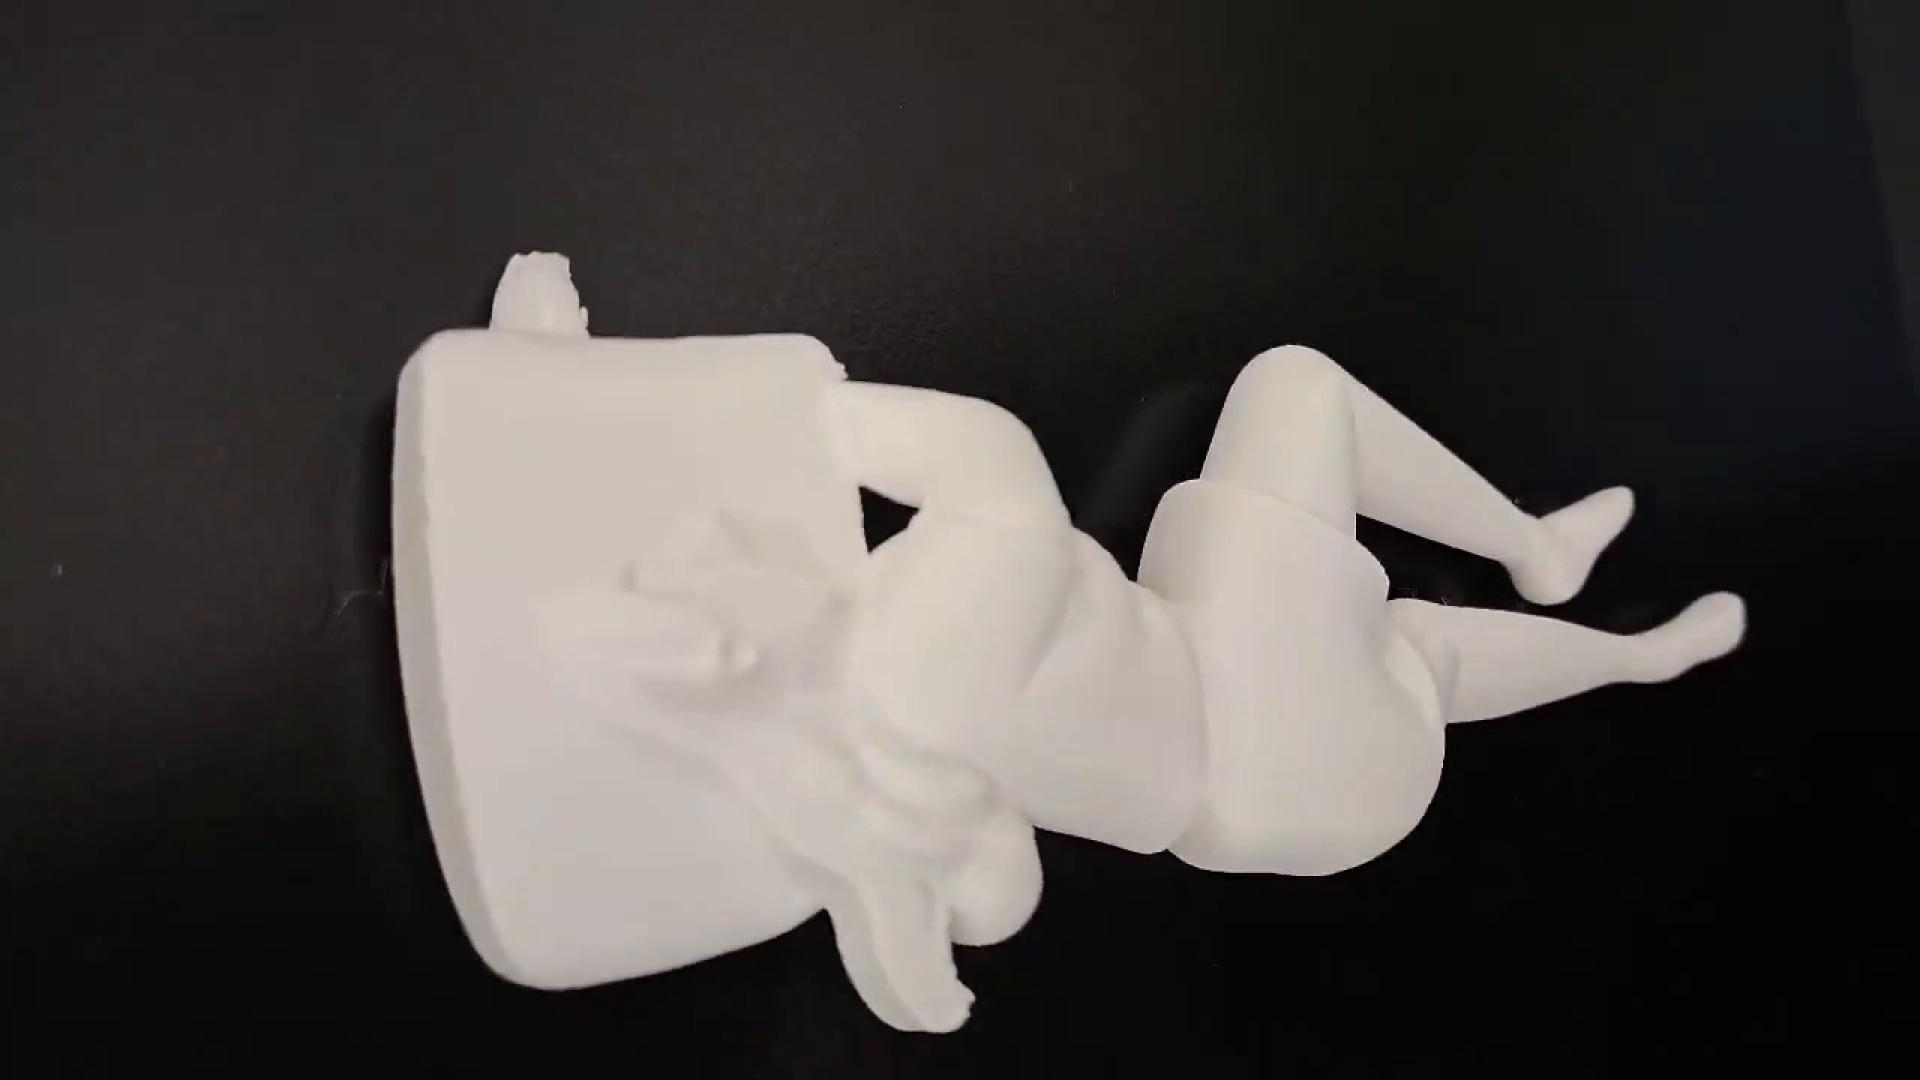Good-style: (382, 249, 1751, 1050)
